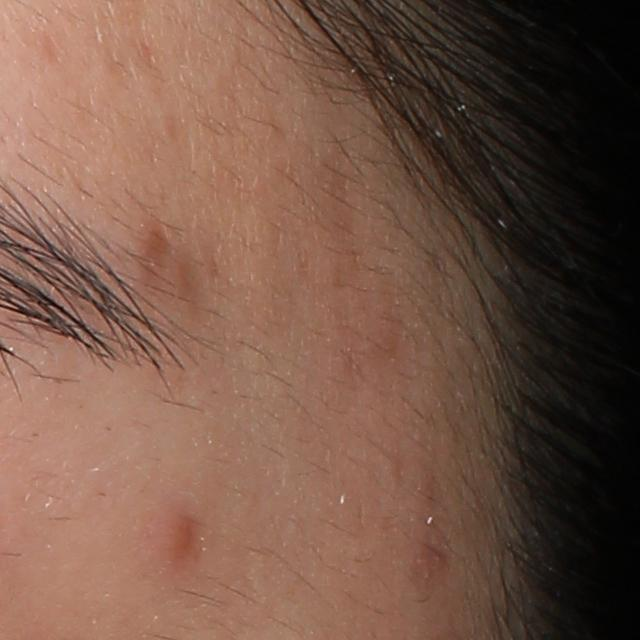papule: (148, 507, 206, 572)
